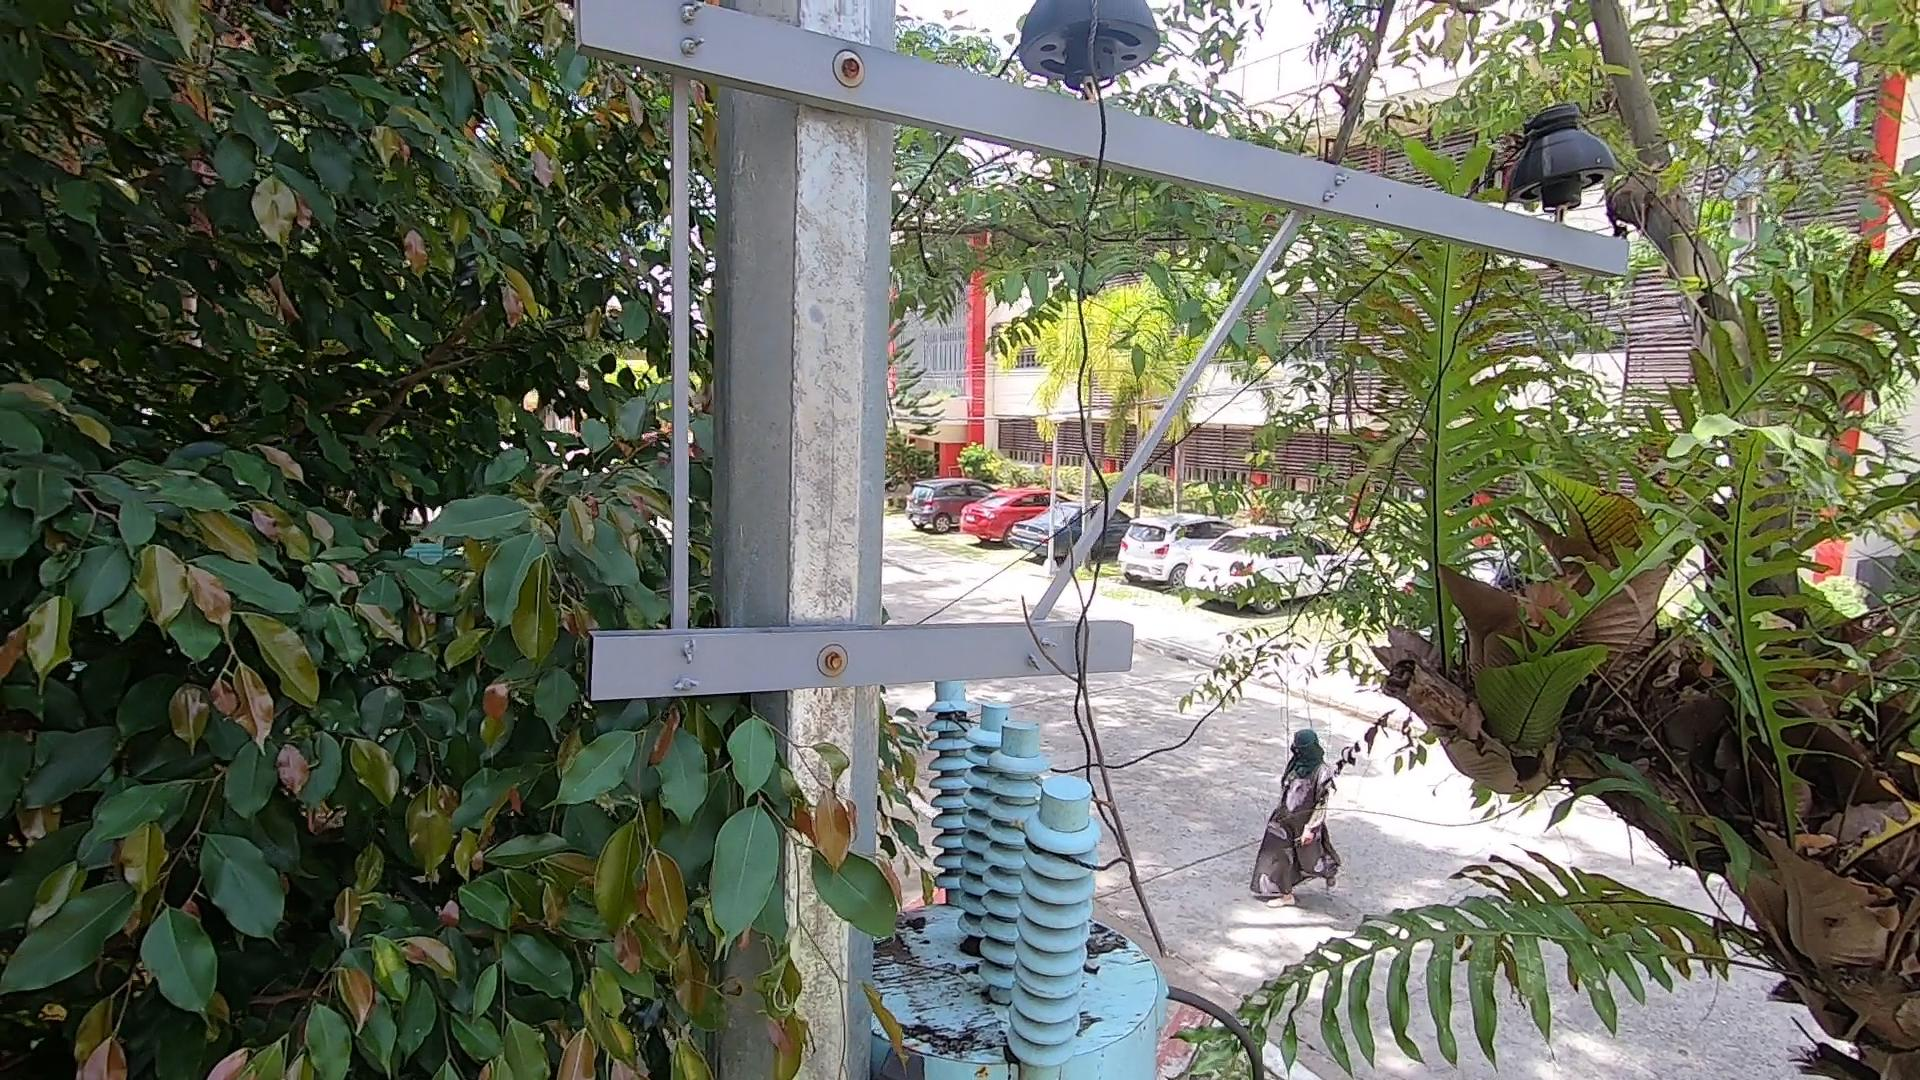tree branch: (986, 446, 1215, 964)
